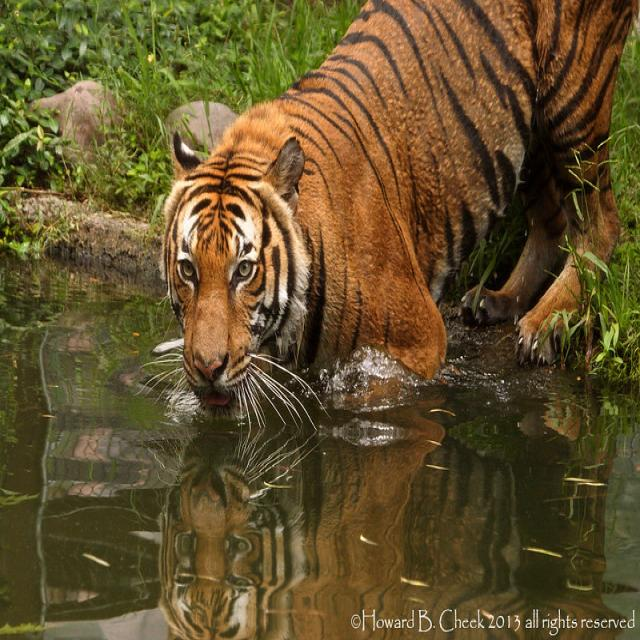Tiger: (161, 0, 624, 401)
